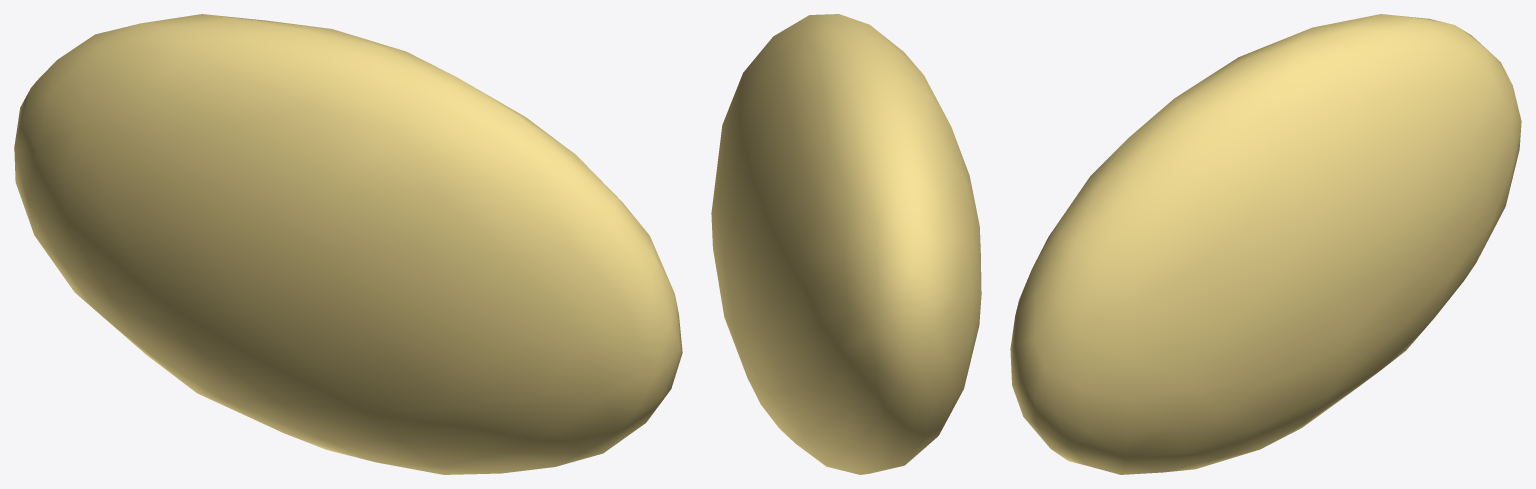
The model's file is fma73035_mm2789m.glb.
3 renders of one model, left to right at view 1: azimuth 30°, elevation 25°; view 2: azimuth 150°, elevation 25°; view 3: azimuth 270°, elevation 25°, orthographic. The views are drawn at different scales.
Visible parts, largest first — view 1: FMA73035_MM2789M; view 2: FMA73035_MM2789M; view 3: FMA73035_MM2789M.
Boxes of the visible parts, bbox=[...] form: FMA73035_MM2789M: bbox=[14, 14, 682, 474]; FMA73035_MM2789M: bbox=[711, 14, 981, 474]; FMA73035_MM2789M: bbox=[1010, 14, 1521, 474].
Bounding box in the file's own units: 0.00209 × 0.00198 × 0.00241.
